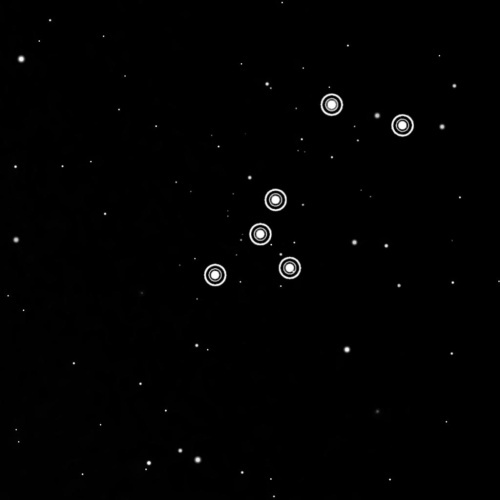canis_major: (195, 87, 420, 299)
